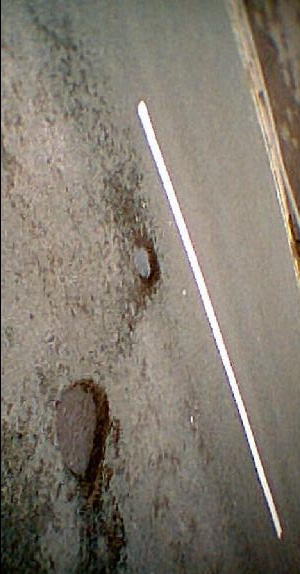pothole: (51, 376, 113, 483), (128, 234, 164, 287)
